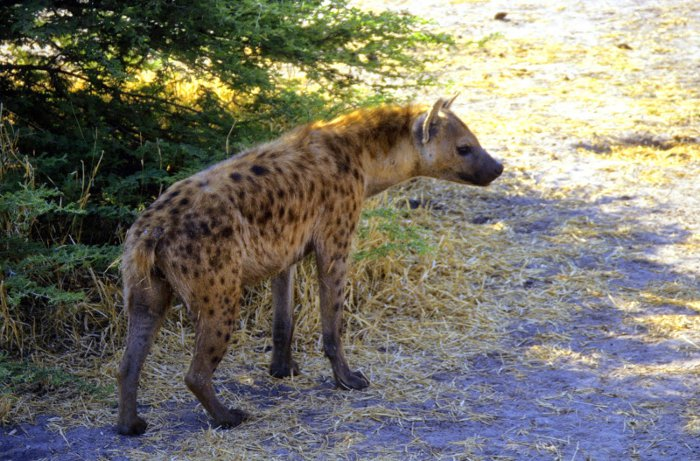hyena: (98, 84, 509, 444)
